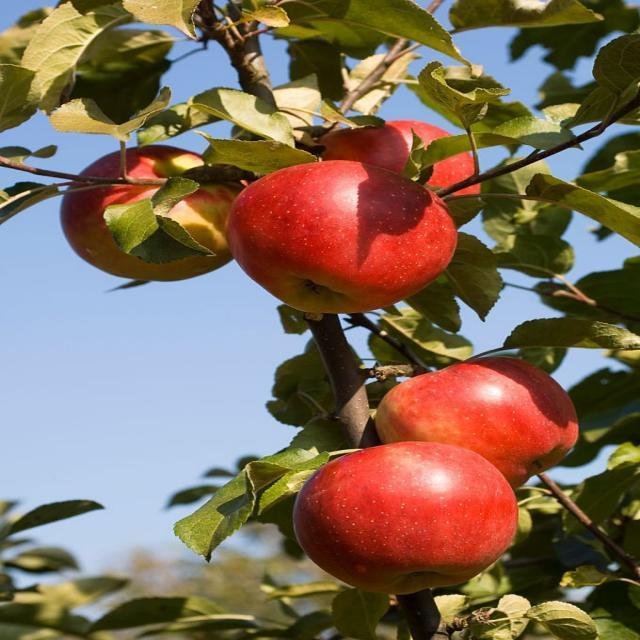Red Apple: (293, 438, 535, 583), (239, 166, 463, 301), (64, 145, 250, 276), (383, 354, 584, 474), (319, 116, 498, 213)
